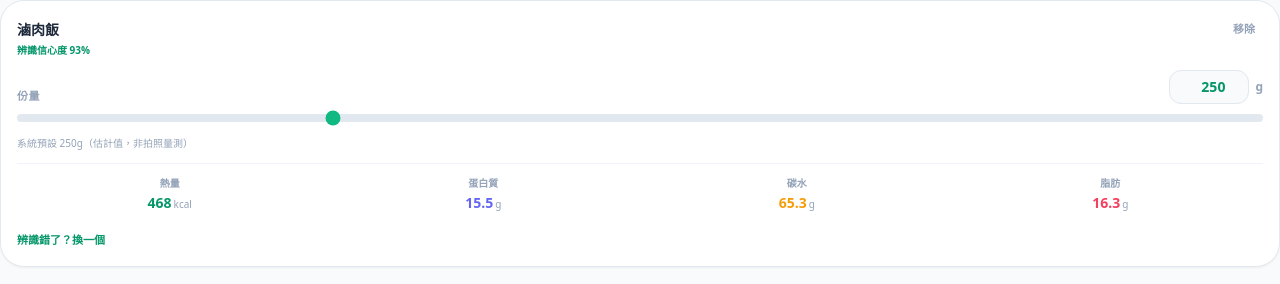
Test: RecognitionItemCard 即時互動 › ★ 調整份量後熱量即時更新，且全程沒有任何 fetch
Replace the text in the number field named "滷肉飯份量（公克）" with "375". click: [1209, 87]
box: [1169,70,1249,104]
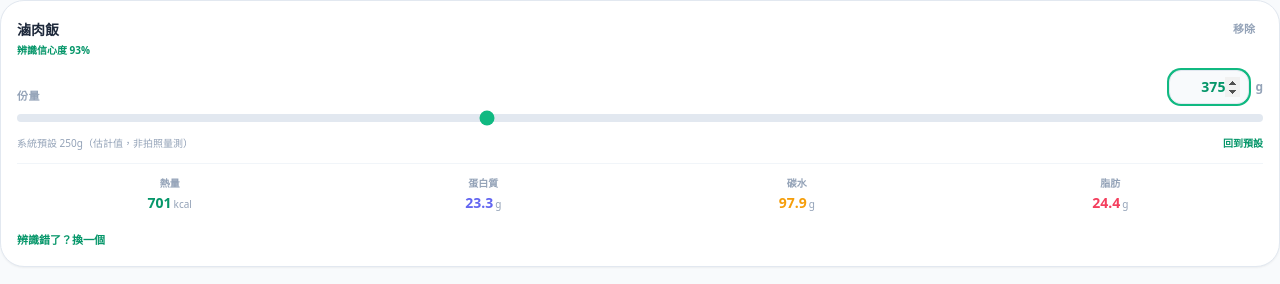
Check: the text "701" is shown, box [148,193,172,212]
